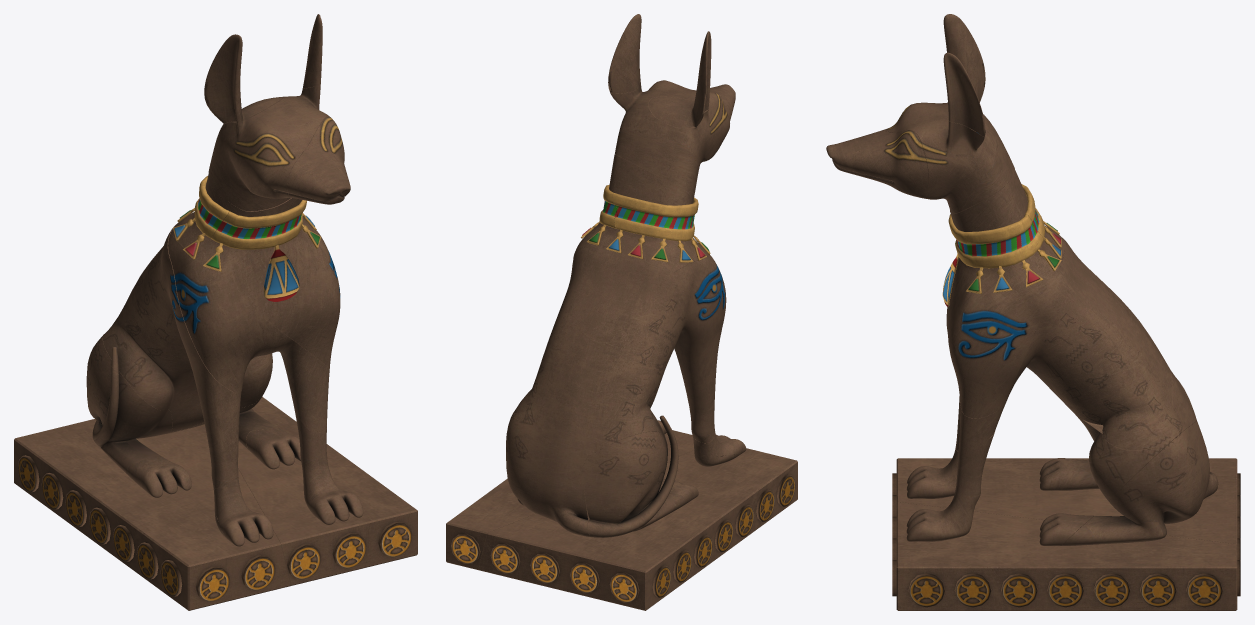
File: StatueE.fbx
3 views of the same model, side by side, from view 1: azimuth 30°, elevation 25°; view 2: azimuth 150°, elevation 25°; view 3: azimuth 270°, elevation 25° (orthographic). The views are drawn at different scales.
Visible parts, largest first — view 1: StatueE_07, StatueE_06, StatueE_19, StatueE_16, StatueE_15, StatueE_11, StatueE_14, StatueE_10, StatueE_17, StatueE_02, StatueE_12, StatueE_18 (+5 smaller); view 2: StatueE_07, StatueE_19, StatueE_09, StatueE_14, StatueE_11, StatueE_18, StatueE_15, StatueE_06, StatueE_01, StatueE_08, StatueE_12, StatueE_13 (+3 smaller); view 3: StatueE_06, StatueE_09, StatueE_15, StatueE_07, StatueE_18, StatueE_11, StatueE_10, StatueE_02, StatueE_08, StatueE_17, StatueE_13, StatueE_12 (+5 smaller).
Boxes of the visible parts, <box> form: StatueE_07: <box>14,419,290,610</box>; StatueE_06: <box>238,396,417,585</box>; StatueE_19: <box>103,225,241,488</box>; StatueE_16: <box>168,233,329,432</box>; StatueE_15: <box>171,174,340,367</box>; StatueE_11: <box>208,84,328,211</box>; StatueE_14: <box>86,334,191,497</box>; StatueE_10: <box>287,116,350,204</box>; StatueE_17: <box>293,404,363,524</box>; StatueE_02: <box>211,200,320,249</box>; StatueE_12: <box>204,34,283,123</box>; StatueE_18: <box>166,395,301,469</box>; StatueE_07: <box>478,448,797,610</box>; StatueE_19: <box>573,271,721,455</box>; StatueE_09: <box>514,247,652,413</box>; StatueE_14: <box>582,415,698,537</box>; StatueE_11: <box>611,79,731,193</box>; StatueE_18: <box>506,416,589,536</box>; StatueE_15: <box>573,154,710,272</box>; StatueE_06: <box>446,430,694,570</box>; StatueE_01: <box>612,193,706,262</box>; StatueE_08: <box>511,400,587,466</box>; StatueE_12: <box>648,31,711,129</box>; StatueE_13: <box>608,14,641,93</box>; StatueE_06: <box>892,502,1240,610</box>; StatueE_09: <box>990,243,1172,450</box>; StatueE_15: <box>946,170,1066,418</box>; StatueE_07: <box>892,458,1240,559</box>; StatueE_18: <box>1039,421,1218,545</box>; StatueE_11: <box>881,102,1014,213</box>; StatueE_10: <box>826,130,928,198</box>; StatueE_02: <box>948,214,1061,293</box>; StatueE_08: <box>1074,374,1196,501</box>; StatueE_17: <box>906,432,994,541</box>; StatueE_13: <box>943,52,985,137</box>; StatueE_12: <box>943,14,988,125</box>.
Bounding box in the file's own units: 2.36 × 5.15 × 3.68.
